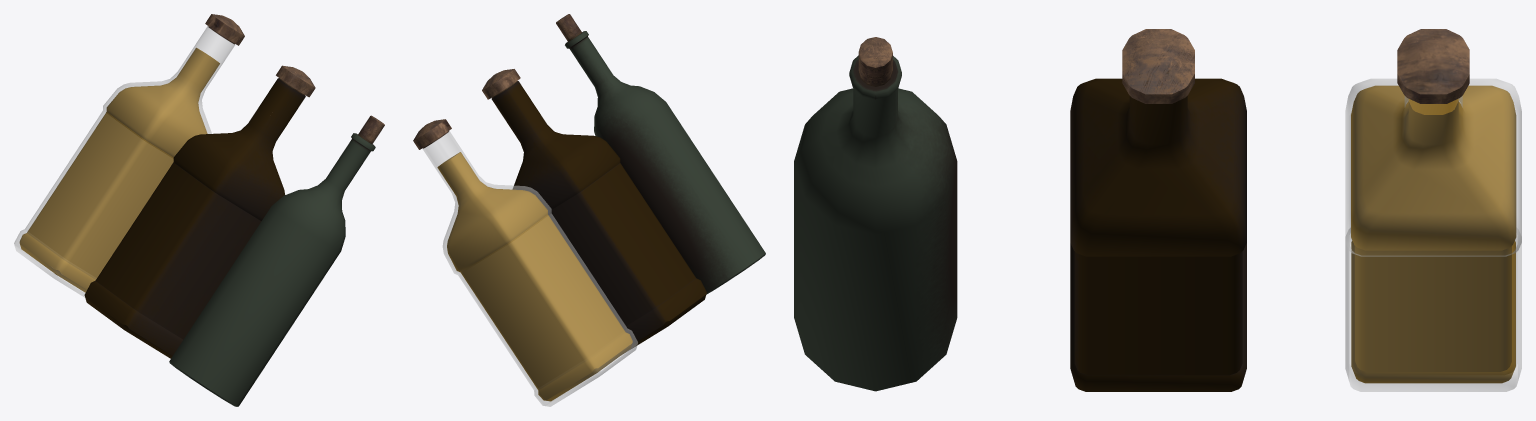
File: Whiskey_and_Wine_Low-Poly_Bottles.glb
The picture shows the model from 3 angles, left to right: view 1: azimuth 30°, elevation 25°; view 2: azimuth 150°, elevation 25°; view 3: azimuth 270°, elevation 25°; orthographic projection. The views are drawn at different scales.
Visible parts, largest first — view 1: Whiskey_Material.002_0, Whiskey_Material.003_0, Whiskey_Material.001_0; view 2: Whiskey_Material.003_0, Whiskey_Material.002_0, Whiskey_Material.001_0; view 3: Whiskey_Material.002_0, Whiskey_Material.003_0, Whiskey_Material.001_0.
Part boxes in pixels (x1,y1,x2,y2): Whiskey_Material.002_0: [84, 65, 315, 358]; Whiskey_Material.003_0: [14, 14, 244, 297]; Whiskey_Material.001_0: [169, 115, 384, 406]; Whiskey_Material.003_0: [413, 119, 637, 406]; Whiskey_Material.002_0: [482, 69, 706, 353]; Whiskey_Material.001_0: [556, 14, 765, 294]; Whiskey_Material.002_0: [1070, 29, 1246, 391]; Whiskey_Material.003_0: [1345, 29, 1521, 391]; Whiskey_Material.001_0: [794, 37, 957, 391].
Bounding box in the file's own units: 0.5459 × 0.6281 × 0.8496.
Materials: 3 (3 with a texture image).
